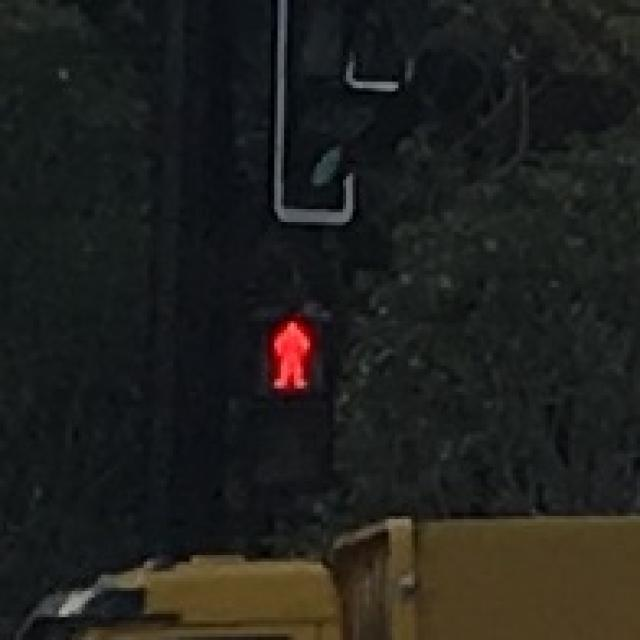red_light: (251, 310, 320, 392)
